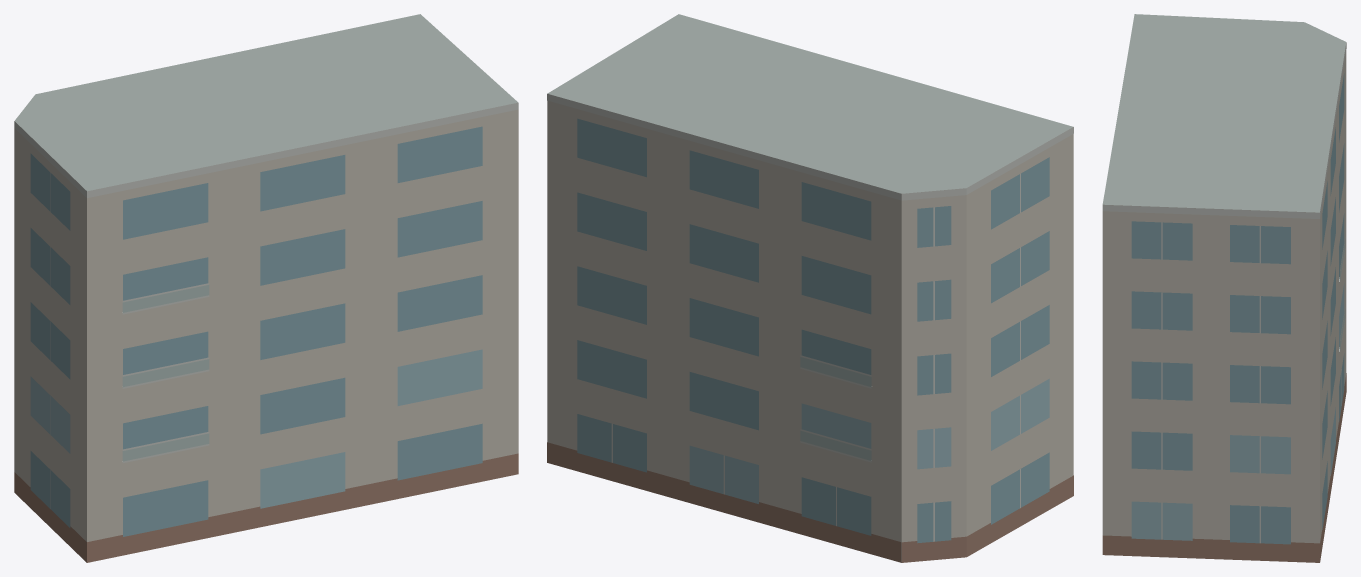
The model's file is survey-upis-33005721.glb.
The picture shows the model from 3 angles, left to right: view 1: azimuth 30°, elevation 25°; view 2: azimuth 150°, elevation 25°; view 3: azimuth 270°, elevation 25°; orthographic projection. The views are drawn at different scales.
Parts seen in each view (by area): view 1: survey-upis-33005721.tmp; view 2: survey-upis-33005721.tmp; view 3: survey-upis-33005721.tmp.
Boxes of the visible parts, x1,y1,x2,y2 form: survey-upis-33005721.tmp: (14,14,518,562); survey-upis-33005721.tmp: (547,14,1073,562); survey-upis-33005721.tmp: (1102,14,1346,562).
Size of the model in its own units: 15.94 by 13.1 by 8.28.
